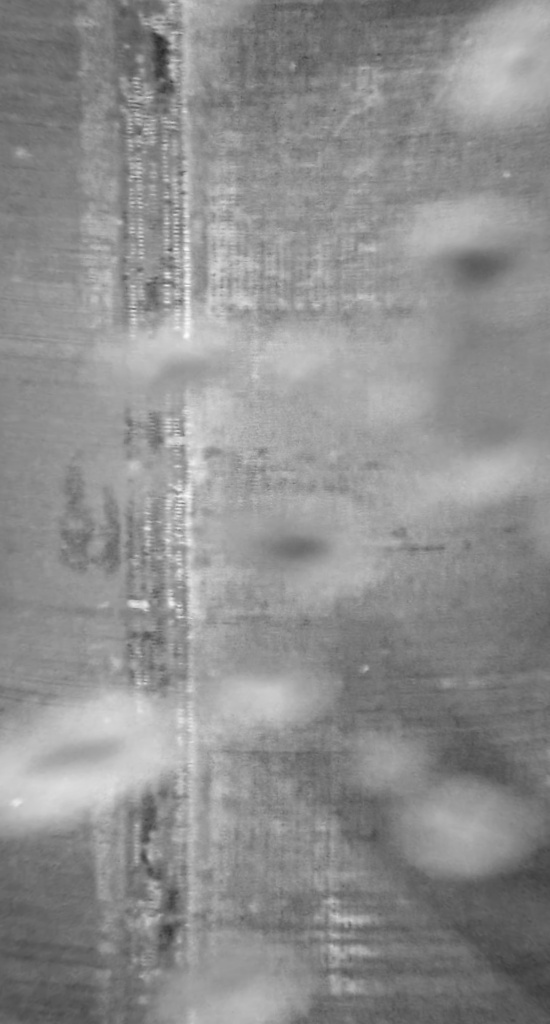splice: (101, 1, 198, 1022)
